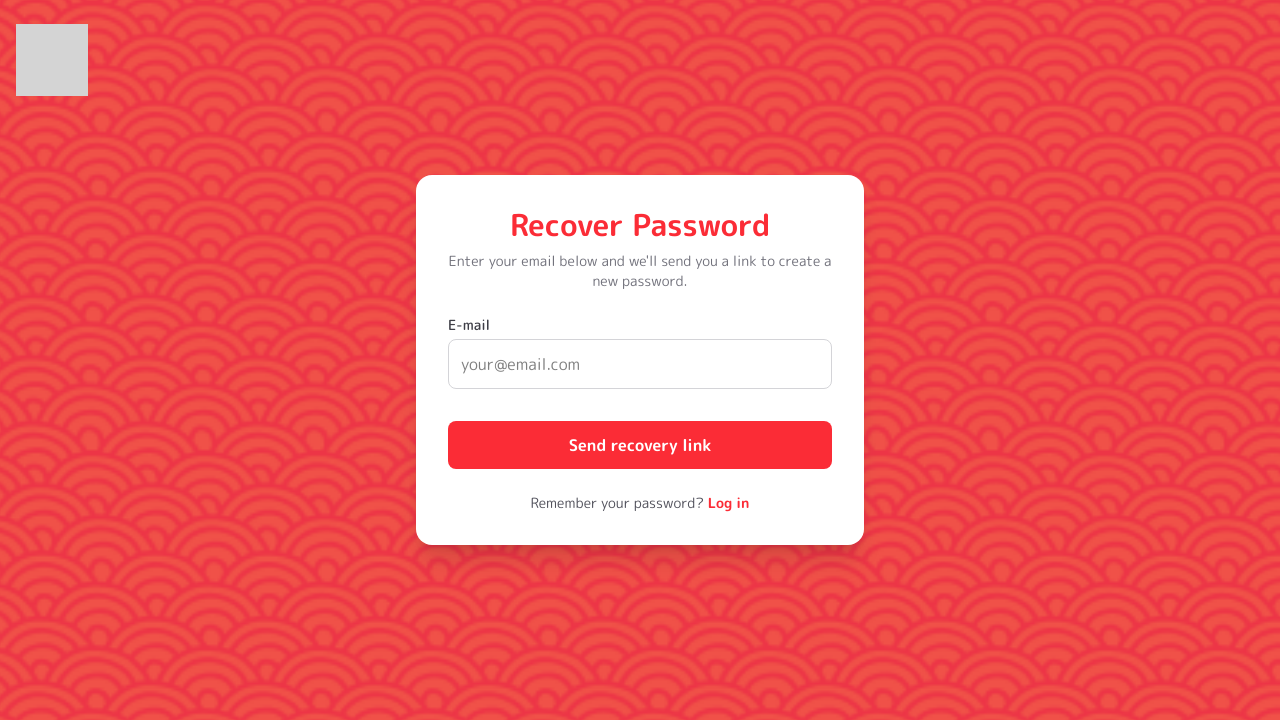
Test: ForgotPasswordPage › should show validation error for invalid email
This screenshot has width=1280, height=720.
In the field with placeholder "your@email.com": (640, 364) [448,339,832,389], type "invalid-email"
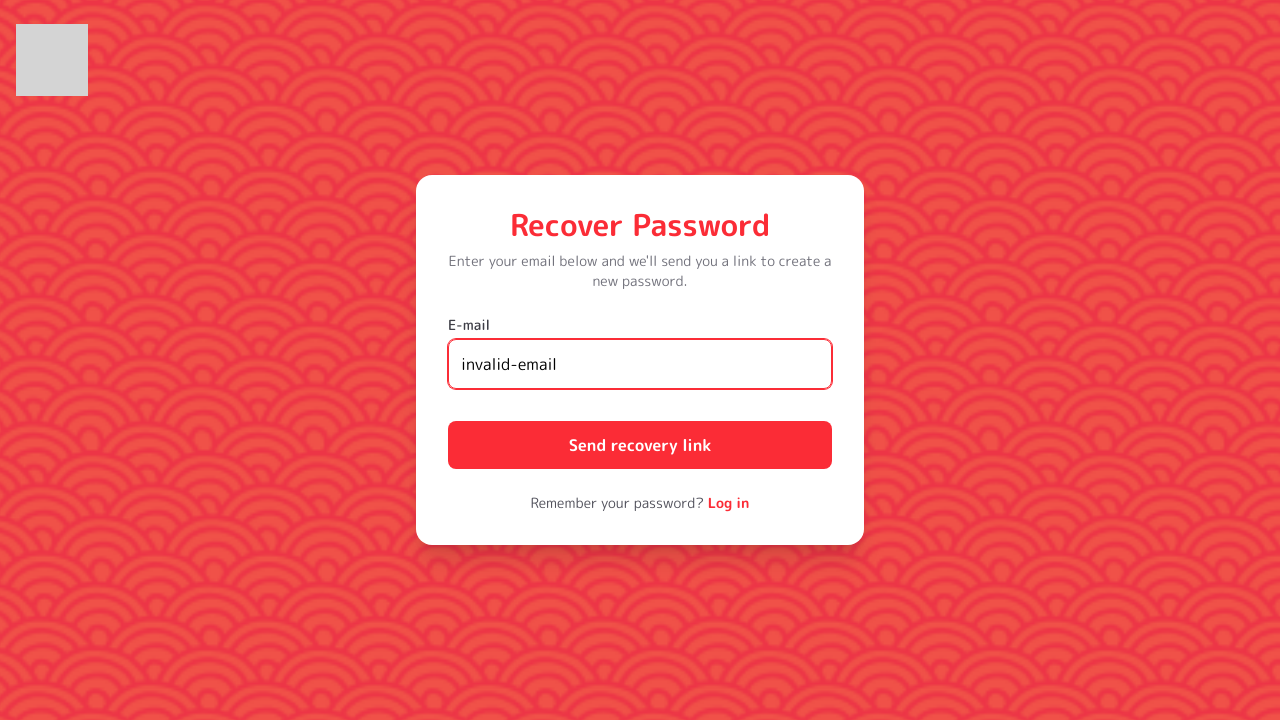
Click the button "Send recovery link": (640, 445) [448,421,832,469]
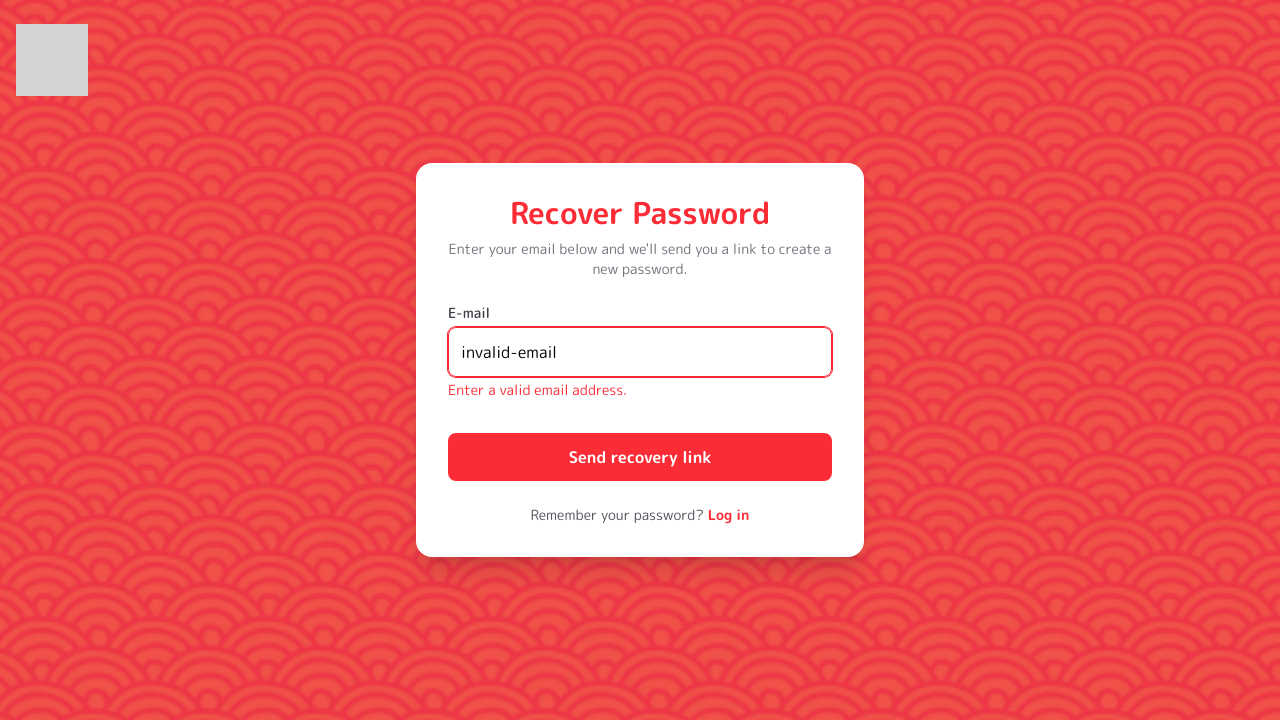
Expected: the text "Enter a valid email address." is shown, [448,380,627,399]
